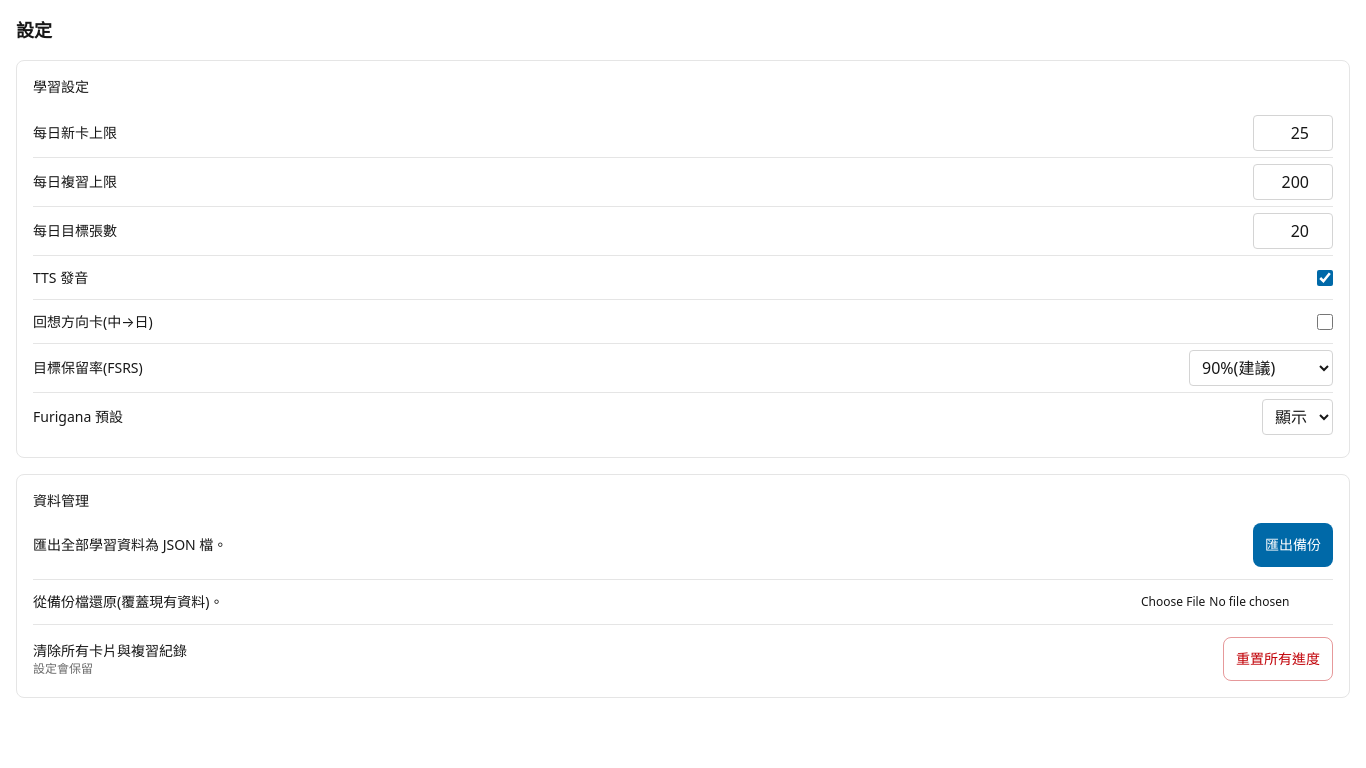
Test case: SettingsPage 重置(F6.3) › 需雙重確認:第一次點擊不執行,確認後清空進度、保留設定
Click the button "重置所有進度" at (1278, 659), box top-left (1223, 637), bottom-right (1333, 681)
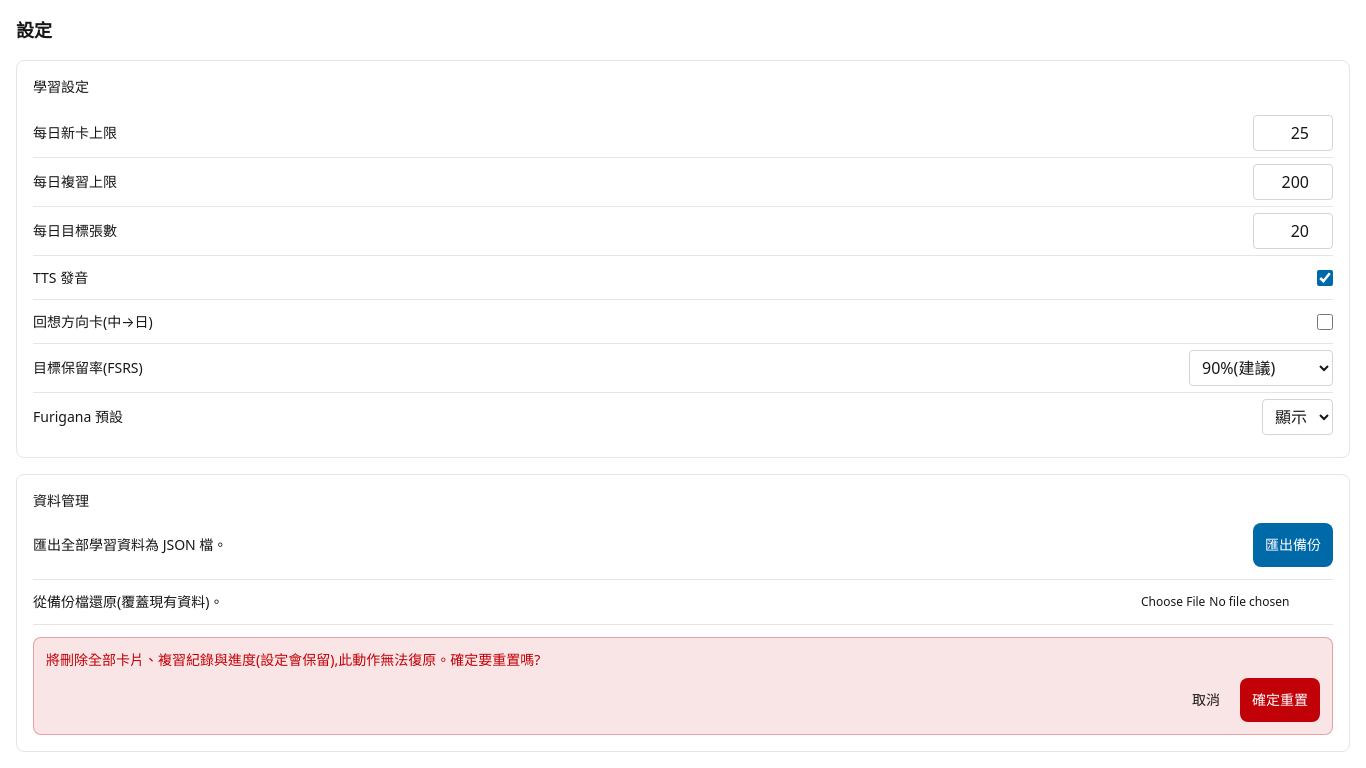
Expected: the text "將刪除全部卡片、複習紀錄與進度(設定會保留),此動作無法復原。確定要重置嗎?" is shown, top-left (46, 650), bottom-right (540, 669)
Click the button "確定重置" at (1280, 700), box top-left (1240, 678), bottom-right (1320, 722)
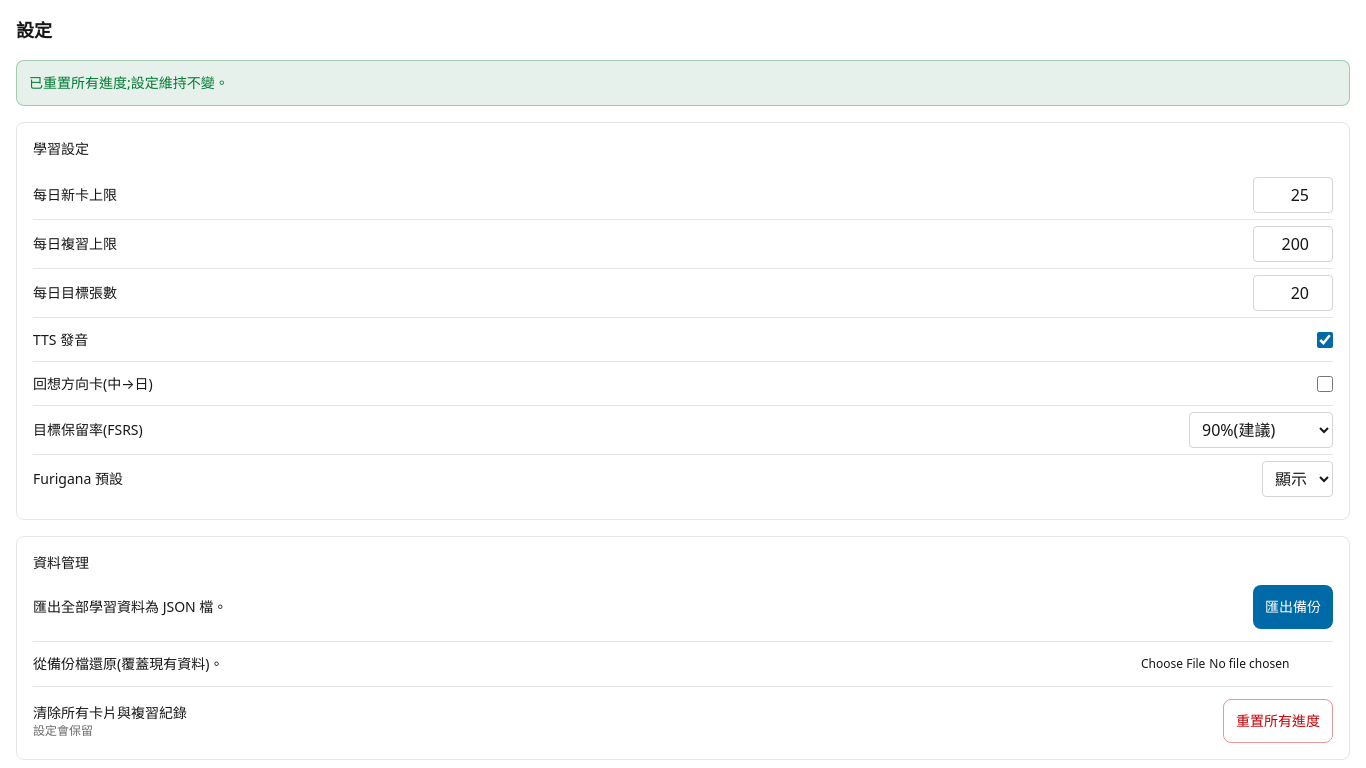
Expected: the number field labelled "每日新卡上限" holds "25", top-left (1253, 177), bottom-right (1333, 213)
Expected: the text "已重置所有進度;設定維持不變。" is shown, top-left (16, 60), bottom-right (1350, 106)
